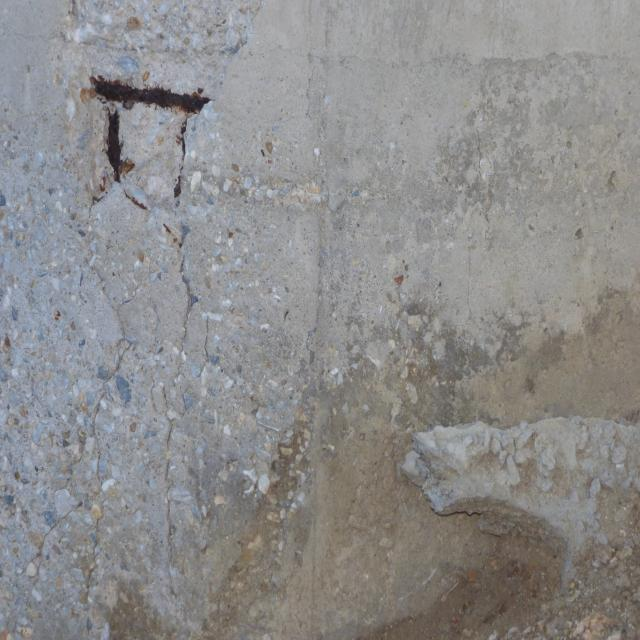corrosion: (63, 57, 213, 214)
